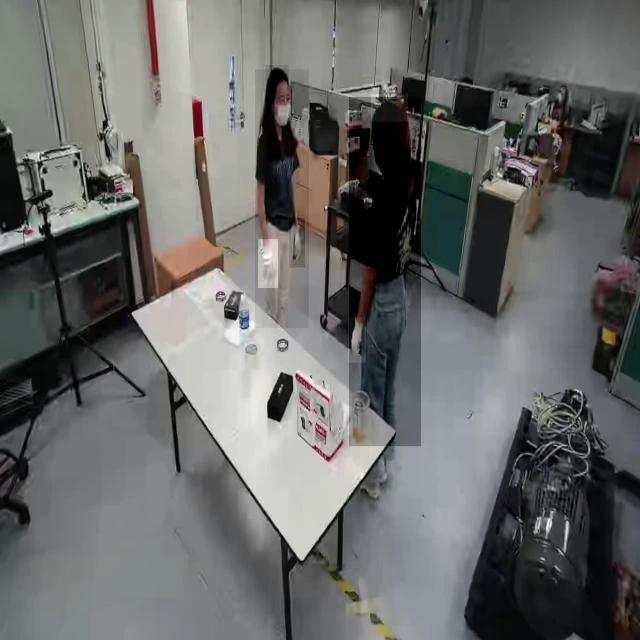gloves: (258, 239, 278, 289), (288, 218, 306, 268), (348, 317, 366, 363)
